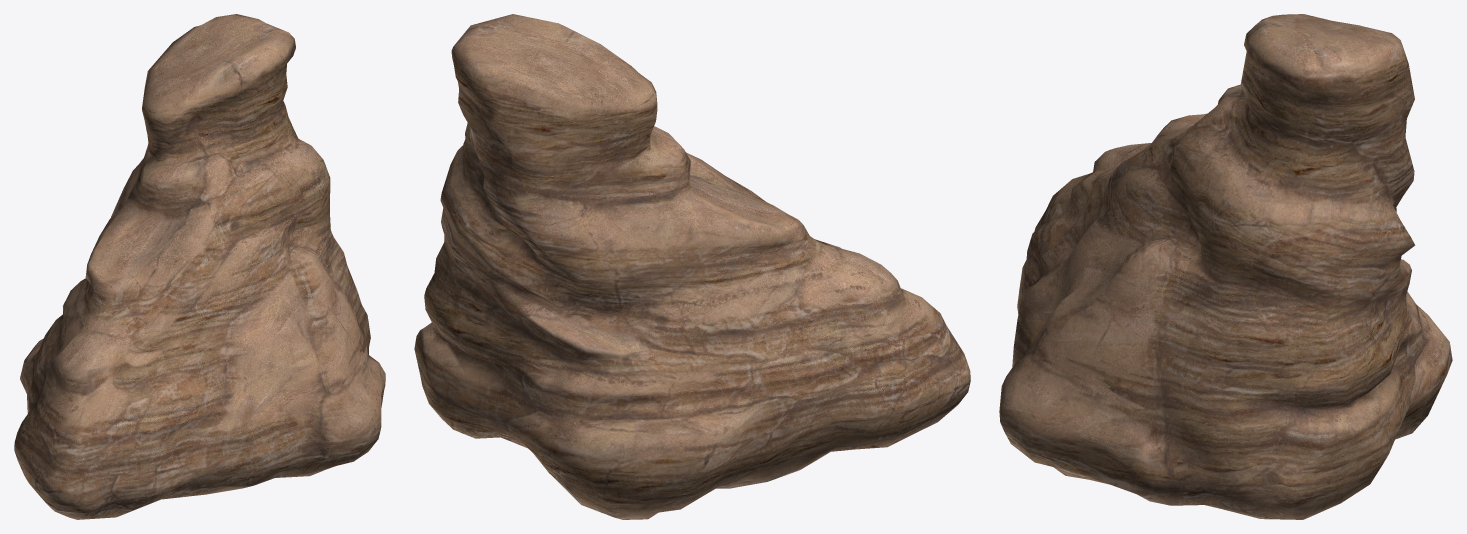
The model's file is rock_sandstone_large_01.dae.
The picture shows the model from 3 angles, left to right: view 1: azimuth 30°, elevation 25°; view 2: azimuth 150°, elevation 25°; view 3: azimuth 270°, elevation 25°; orthographic projection. The views are drawn at different scales.
Parts seen in each view (by area): view 1: rock_sandstone_large_01_LowPoly1; view 2: rock_sandstone_large_01_LowPoly1; view 3: rock_sandstone_large_01_LowPoly1.
Part boxes in pixels (left/top/right/bottom): rock_sandstone_large_01_LowPoly1: left=14, top=14, right=385, bottom=519; rock_sandstone_large_01_LowPoly1: left=414, top=14, right=970, bottom=519; rock_sandstone_large_01_LowPoly1: left=999, top=14, right=1452, bottom=519.
Size of the model in its own units: 874 by 814 by 703.
